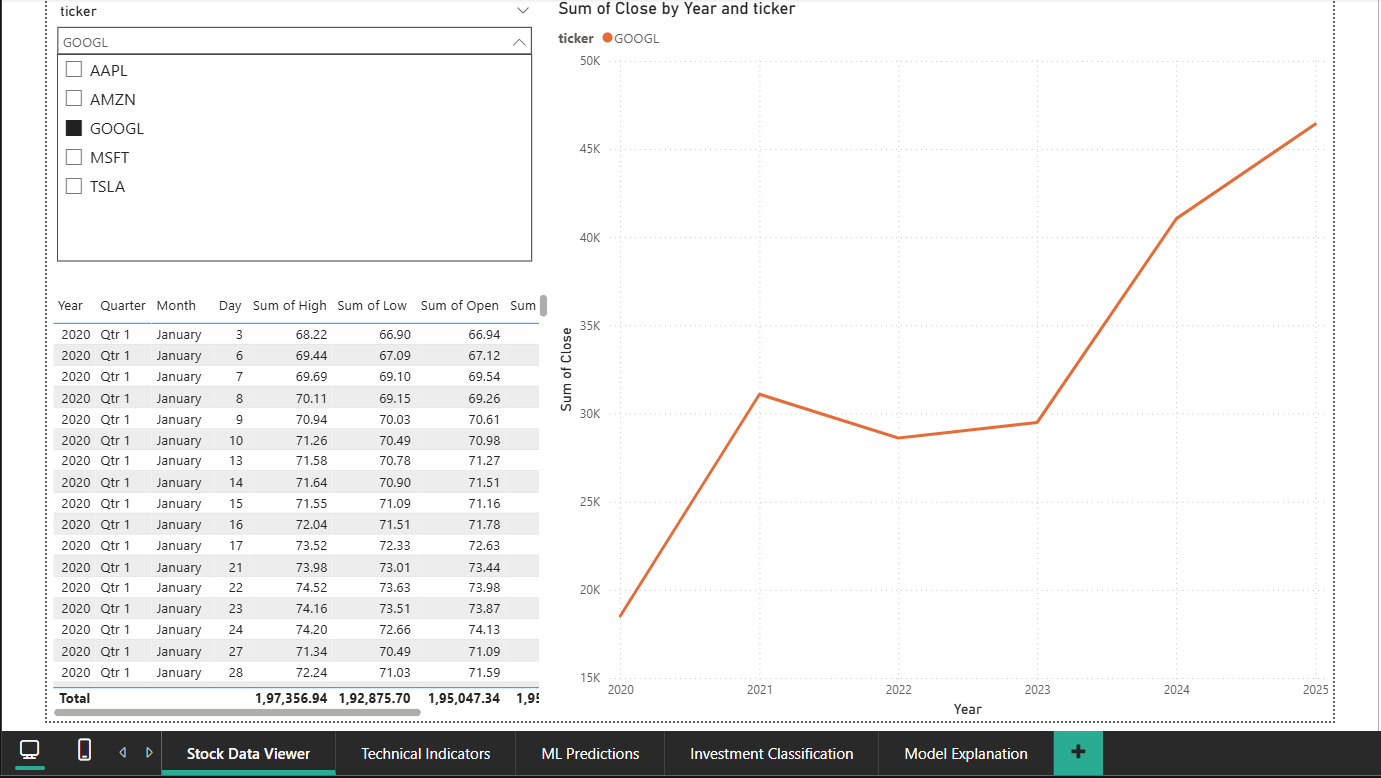

Layout of this report page (visuals, bound fields, positions):
{"tool":"powerbi","page":{"name":"Stock Data Viewer","canvas":[1280,720],"ordinal":0},"visuals":[{"type":"slicer","fields":{"Values":["technical_indicators.ticker"]},"box":[0,0,492.6,279.9],"z":0},{"type":"tableEx","fields":{"Values":["technical_indicators.date.Variation.Date Hierarchy.Year","technical_indicators.date.Variation.Date Hierarchy.Quarter","technical_indicators.date.Variation.Date Hierarchy.Month","technical_indicators.date.Variation.Date Hierarchy.Day","Sum(technical_indicators.High)","Sum(technical_indicators.Low)","Sum(technical_indicators.Open)","Sum(technical_indicators.Close)","Sum(technical_indicators.Volume)"]},"box":[0,289.5,503.6,430.9],"z":1000},{"type":"lineChart","fields":{"Category":["technical_indicators.date.Variation.Date Hierarchy.Year","technical_indicators.date.Variation.Date Hierarchy.Quarter","technical_indicators.date.Variation.Date Hierarchy.Month","technical_indicators.date.Variation.Date Hierarchy.Day"],"Y":["Sum(technical_indicators.Close)"],"Series":["technical_indicators.ticker"]},"box":[503.6,0,776.7,720.4],"z":2000}]}

Visuals, with their boxes on the page's 1280x720 design canvas (x1, y1, x2, y2). These are canvas units, not pixel positions in the 1381x778 screenshot, which may show the page scaled, cropped or inside an application window:
slicer - technical_indicators.ticker: (0,0,493,280)
tableEx - technical_indicators.date.Variation.Date Hierarchy.Year x technical_indicators.date.Variation.Date Hierarchy.Quarter: (0,290,504,720)
lineChart - technical_indicators.date.Variation.Date Hierarchy.Year x technical_indicators.date.Variation.Date Hierarchy.Quarter: (504,0,1280,720)
